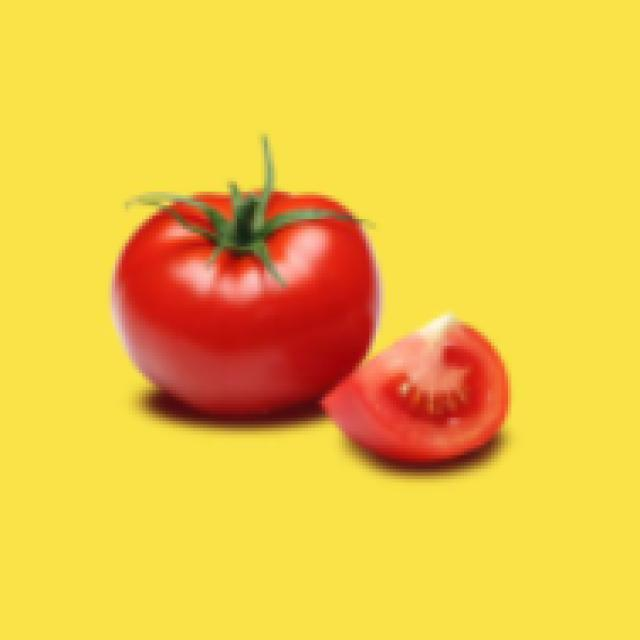Tomato: (115, 154, 383, 418), (295, 289, 511, 474)
